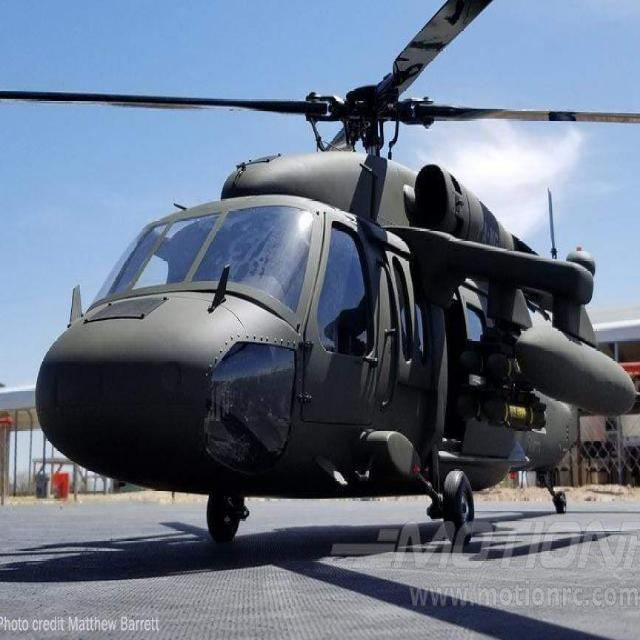helicopter: (11, 1, 640, 547)
